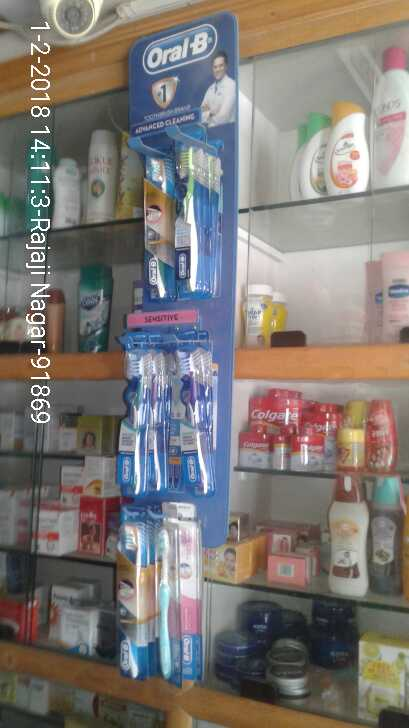oralb: (151, 517, 202, 677), (114, 347, 163, 496), (171, 345, 215, 491), (111, 504, 143, 676), (137, 153, 174, 301)
